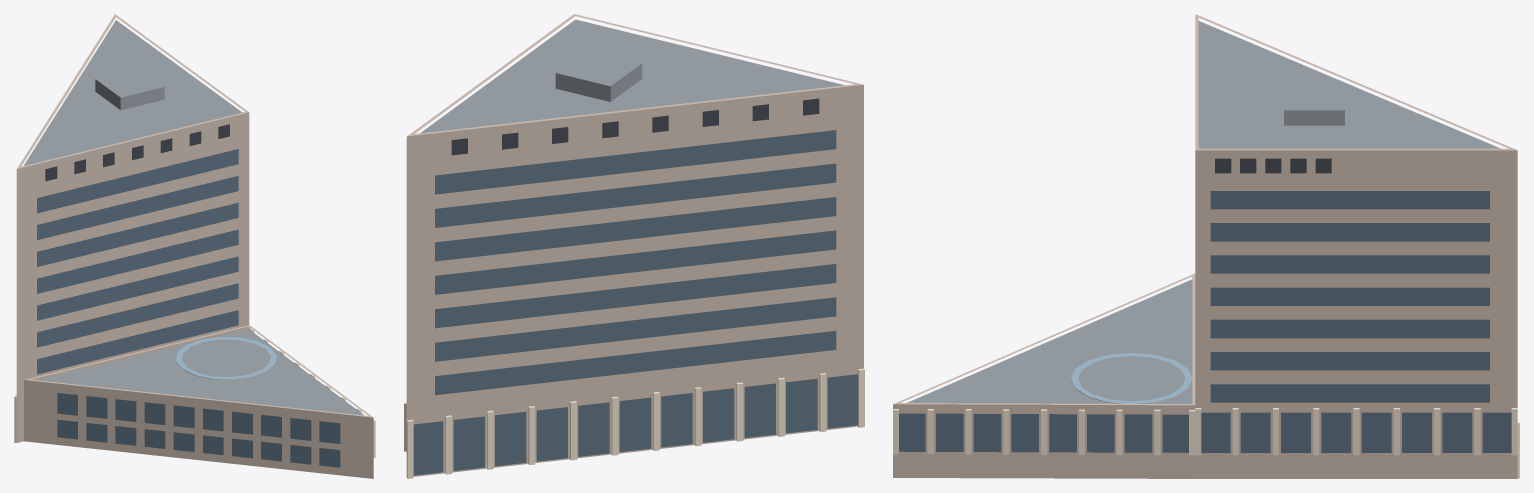
The model's file is clt-government-center.glb.
3 renders of one model, left to right at view 1: azimuth 30°, elevation 25°; view 2: azimuth 150°, elevation 25°; view 3: azimuth 270°, elevation 25°, orthographic. The views are drawn at different scales.
Visible parts, largest first — view 1: Charlotte-Mecklenburg Government Center; view 2: Charlotte-Mecklenburg Government Center; view 3: Charlotte-Mecklenburg Government Center.
Boxes of the visible parts, x1,y1,x2,y2 form: Charlotte-Mecklenburg Government Center: [14, 14, 375, 478]; Charlotte-Mecklenburg Government Center: [404, 14, 864, 478]; Charlotte-Mecklenburg Government Center: [893, 14, 1519, 478].
Size of the model in its own units: 64.52 by 74 by 123.
